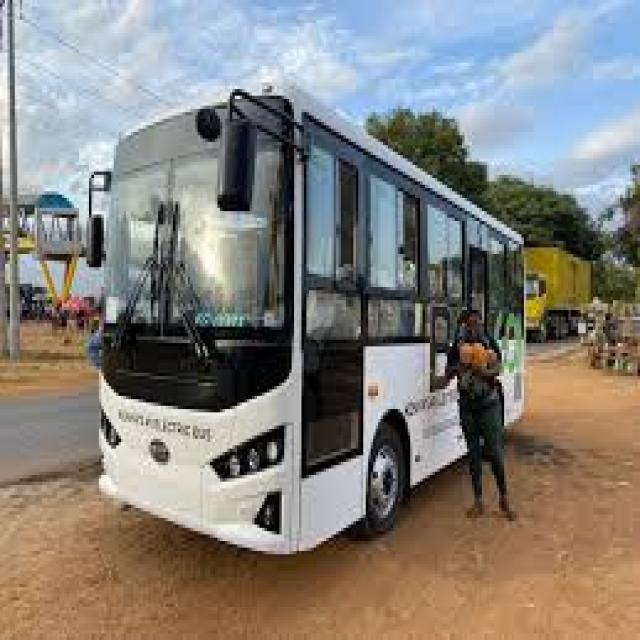bus: (35, 23, 553, 580)
